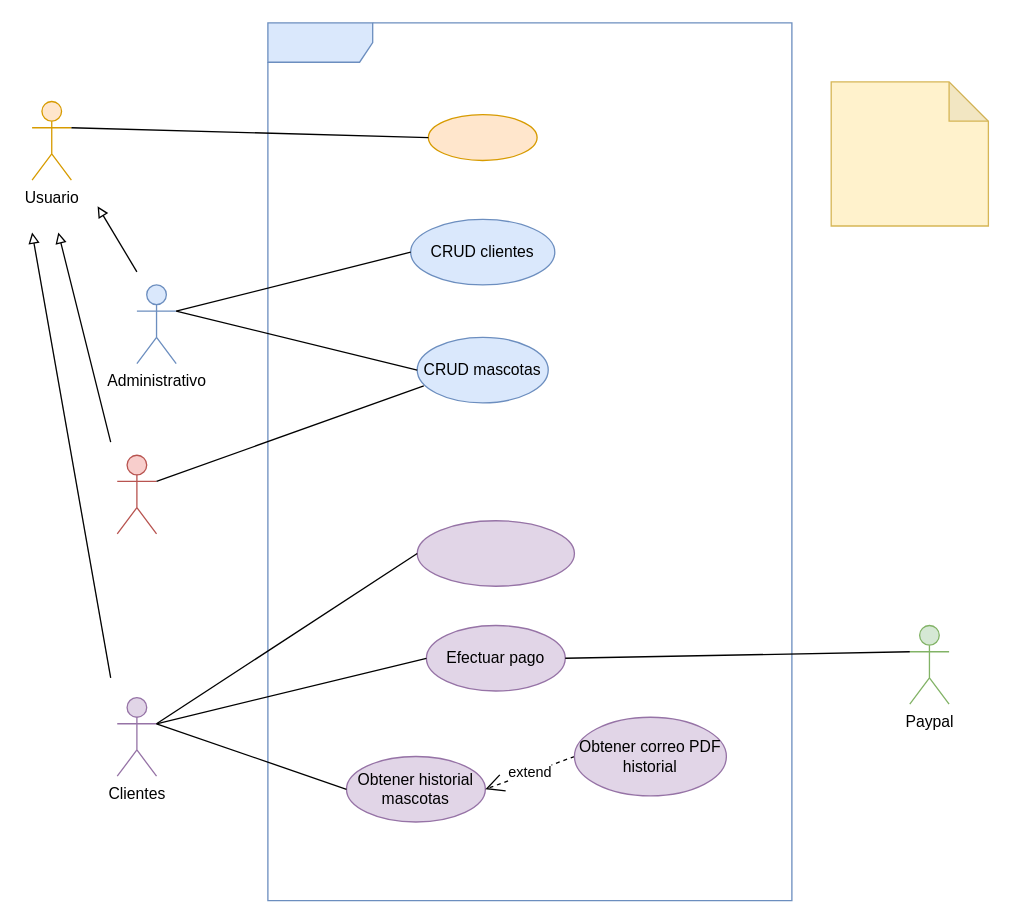
Image size: 1011x924. Some labels were removed from this diagram. Each missing label, with the box of its shape:
Clinica Veterinaria: (267, 22, 792, 901)
Consulta estado mascota ingresada: (416, 519, 574, 586)
Login: (427, 113, 537, 160)
Todos los casos de uso requieren login previo: (830, 81, 988, 226)
Veterinario: (116, 454, 157, 534)
